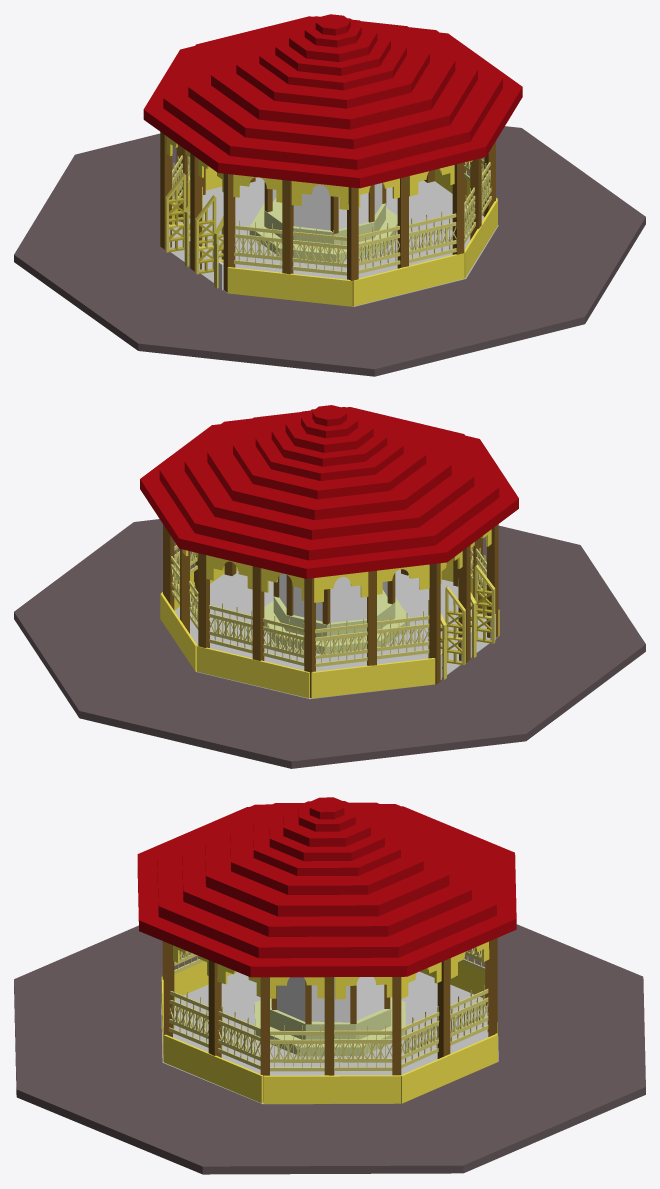
Rendered from gong.glb.
3 renders of one model, top to bottom at view 1: azimuth 30°, elevation 25°; view 2: azimuth 150°, elevation 25°; view 3: azimuth 270°, elevation 25°, orthographic. The views are drawn at different scales.
Parts seen in each view (by area): view 1: pondasi.011, pondasi.002, pondasi.001, pondasi.003, pondasi.004, pondasi, pondasi.005, tiang.008, tiang.005, pondasi.006, pondasi.007, pondasi.008 (+22 smaller); view 2: pondasi.011, pondasi.002, pondasi.001, pondasi.003, pondasi.004, pondasi, pondasi.005, tiang.002, tiang.003, pondasi.006, pondasi.007, pondasi.008 (+25 smaller); view 3: pondasi.011, pondasi.002, pondasi.001, pondasi.003, pondasi.004, pondasi, pondasi.005, tiang.006, pondasi.006, tiang.004, tiang.007, pondasi.007 (+24 smaller).
Boxes of the visible parts, bbox=[...] form: pondasi.011: bbox=[14, 126, 645, 376]; pondasi.002: bbox=[163, 16, 502, 169]; pondasi.001: bbox=[143, 32, 522, 188]; pondasi.003: bbox=[188, 27, 477, 149]; pondasi.004: bbox=[211, 16, 455, 129]; pondasi: bbox=[170, 177, 498, 306]; pondasi.005: bbox=[236, 18, 429, 108]; tiang.008: bbox=[227, 267, 352, 306]; tiang.005: bbox=[353, 253, 464, 306]; pondasi.006: bbox=[259, 25, 406, 90]; pondasi.007: bbox=[275, 23, 390, 75]; pondasi.008: bbox=[289, 19, 377, 62]; pondasi.011: bbox=[14, 519, 645, 768]; pondasi.002: bbox=[159, 407, 499, 560]; pondasi.001: bbox=[140, 424, 518, 578]; pondasi.003: bbox=[184, 419, 474, 539]; pondasi.004: bbox=[207, 407, 451, 520]; pondasi: bbox=[174, 569, 498, 699]; pondasi.005: bbox=[233, 411, 426, 499]; tiang.002: bbox=[311, 658, 435, 698]; tiang.003: bbox=[197, 646, 309, 698]; pondasi.006: bbox=[255, 416, 403, 480]; pondasi.007: bbox=[271, 414, 387, 466]; pondasi.008: bbox=[285, 410, 373, 452]; pondasi.011: bbox=[14, 924, 645, 1174]; pondasi.002: bbox=[157, 804, 496, 958]; pondasi.001: bbox=[137, 806, 516, 977]; pondasi.003: bbox=[182, 804, 471, 936]; pondasi.004: bbox=[205, 802, 449, 916]; pondasi: bbox=[161, 971, 498, 1104]; pondasi.005: bbox=[230, 804, 423, 894]; tiang.006: bbox=[263, 1075, 400, 1103]; pondasi.006: bbox=[253, 805, 400, 875]; tiang.004: bbox=[164, 1034, 263, 1103]; tiang.007: bbox=[401, 1034, 497, 1103]; pondasi.007: bbox=[269, 812, 384, 861].
Bounding box in the file's own units: 51.87 × 21.47 × 51.87.
